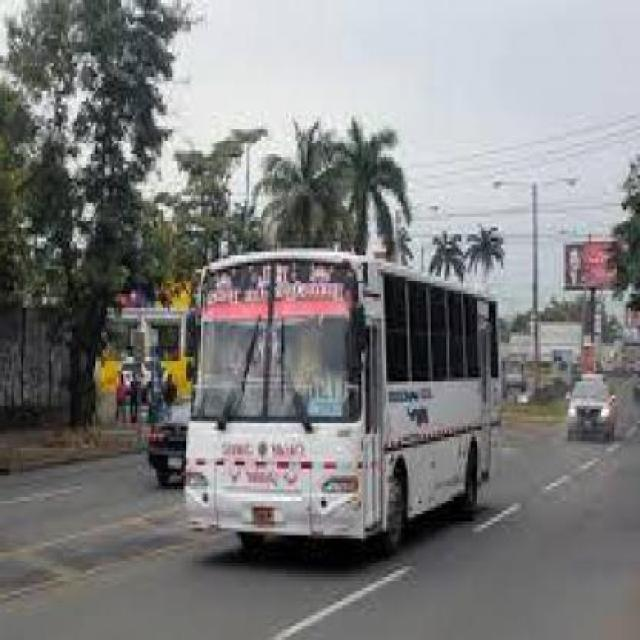bus: (184, 250, 498, 554)
